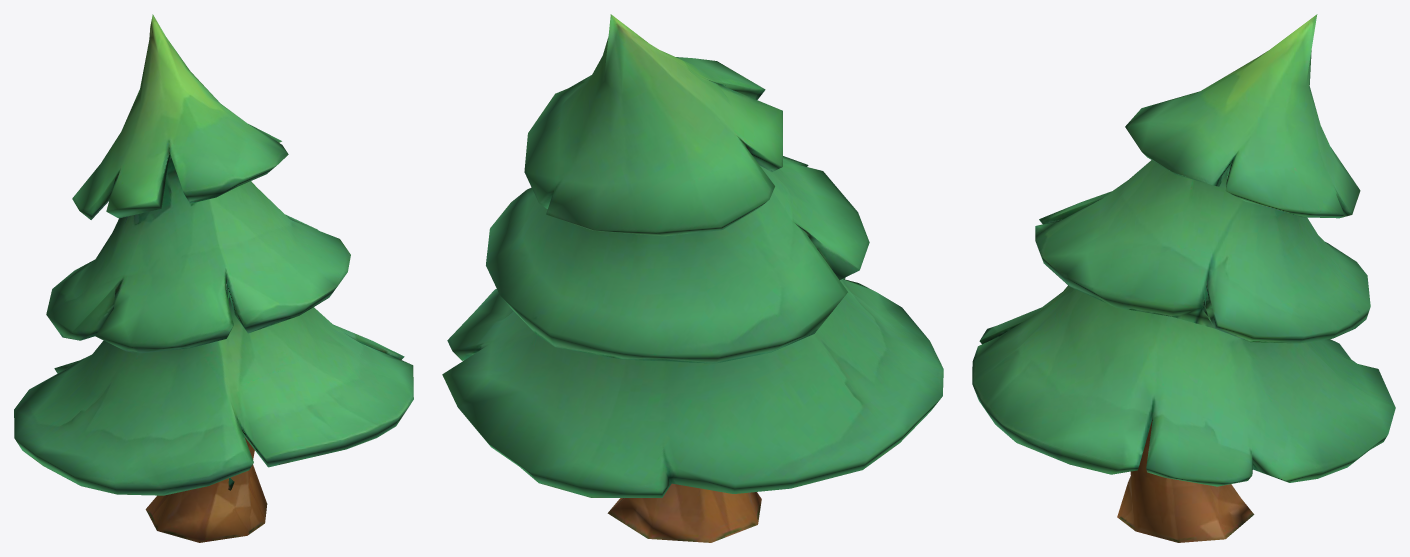
The model's file is Evergreen_Essence_0405084542_texture.fbx.
3 views of the same model, side by side, from view 1: azimuth 30°, elevation 25°; view 2: azimuth 150°, elevation 25°; view 3: azimuth 270°, elevation 25° (orthographic). The views are drawn at different scales.
Parts seen in each view (by area): view 1: Mesh1; view 2: Mesh1; view 3: Mesh1.
Boxes of the visible parts, left/top/right/bottom form: Mesh1: left=14, top=14, right=413, bottom=542; Mesh1: left=442, top=14, right=943, bottom=542; Mesh1: left=972, top=14, right=1395, bottom=542.
Bounding box in the file's own units: 163 × 199 × 152.
1 material, 1 textured.
